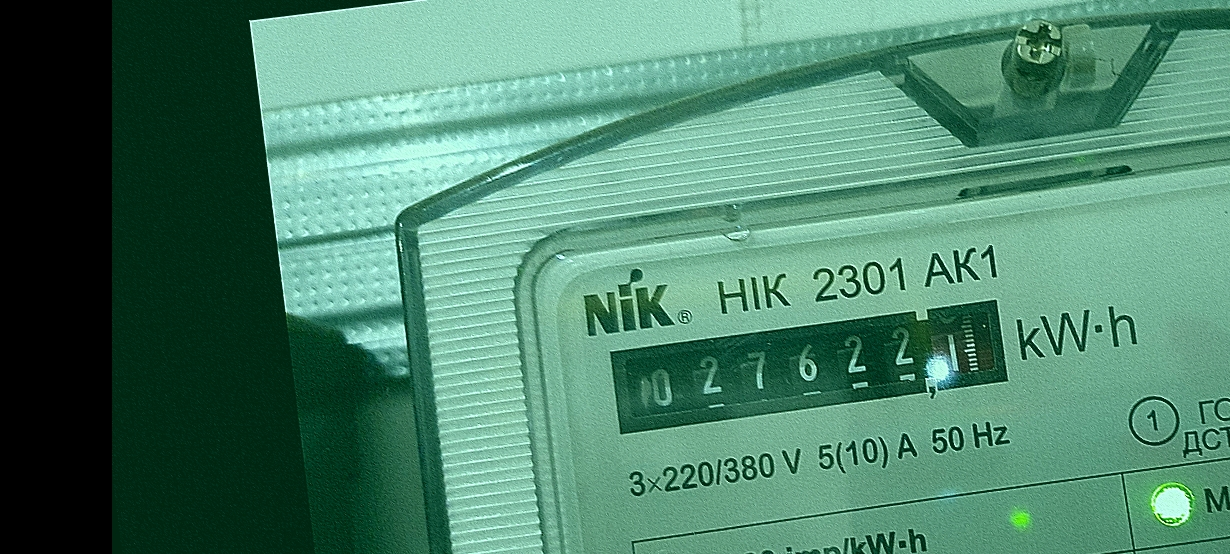0: (649, 365, 678, 410)
1: (944, 330, 965, 375)
2: (841, 333, 871, 377), (698, 353, 726, 398), (890, 324, 918, 368)
6: (795, 342, 822, 385)
7: (746, 349, 774, 395)
screen: (597, 289, 1025, 443)
